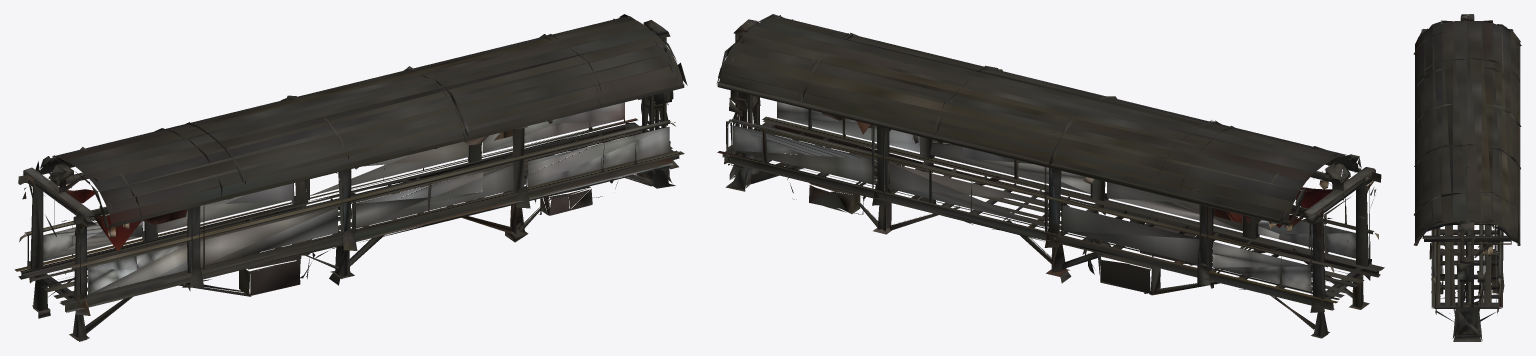
Rendered from walkway-far.glb.
3 renders of one model, left to right at view 1: azimuth 30°, elevation 25°; view 2: azimuth 150°, elevation 25°; view 3: azimuth 270°, elevation 25°, orthographic. The views are drawn at different scales.
Parts seen in each view (by area): view 1: walkway; view 2: walkway; view 3: walkway.
Part boxes in pixels (left/top/right/bottom): walkway: left=14, top=14, right=687, bottom=341; walkway: left=716, top=14, right=1384, bottom=338; walkway: left=1413, top=14, right=1521, bottom=341.
Size of the model in its own units: 14 by 3.42 by 2.91.
1 material, 1 textured.
